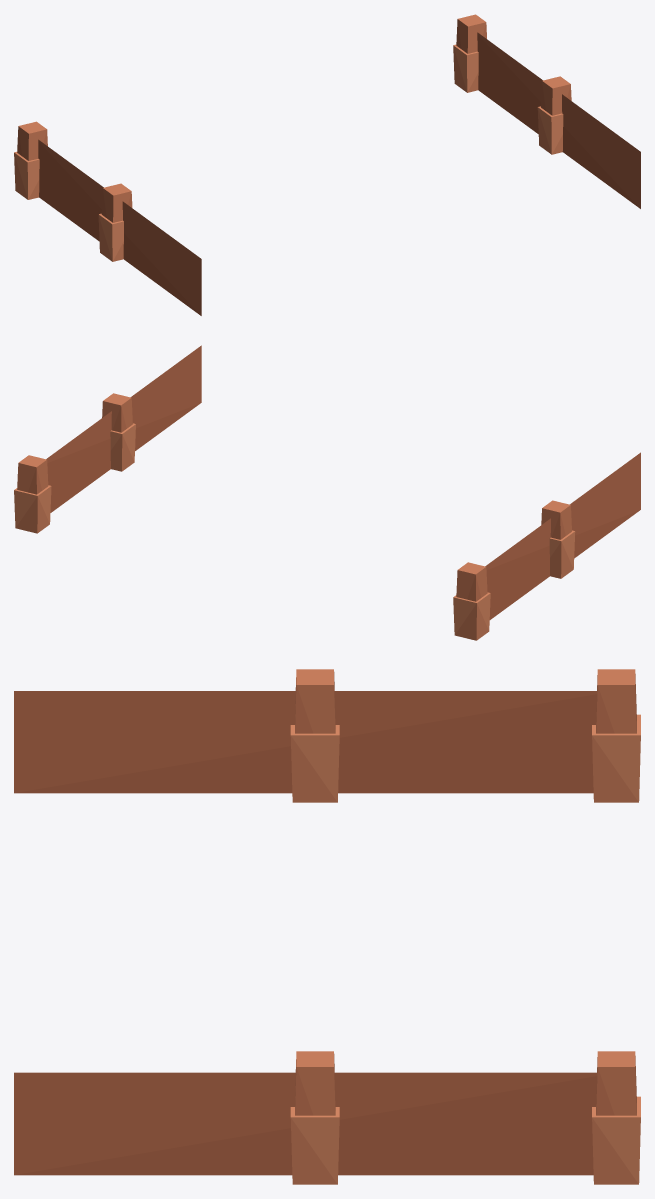
File: fence-low_vita.obj
3 renders of one model, top to bottom at view 1: azimuth 30°, elevation 25°; view 2: azimuth 150°, elevation 25°; view 3: azimuth 270°, elevation 25°, orthographic. The views are drawn at different scales.
Size of the model in its own units: 1.26 by 0.17 by 0.8325.
1 material, 1 textured.
